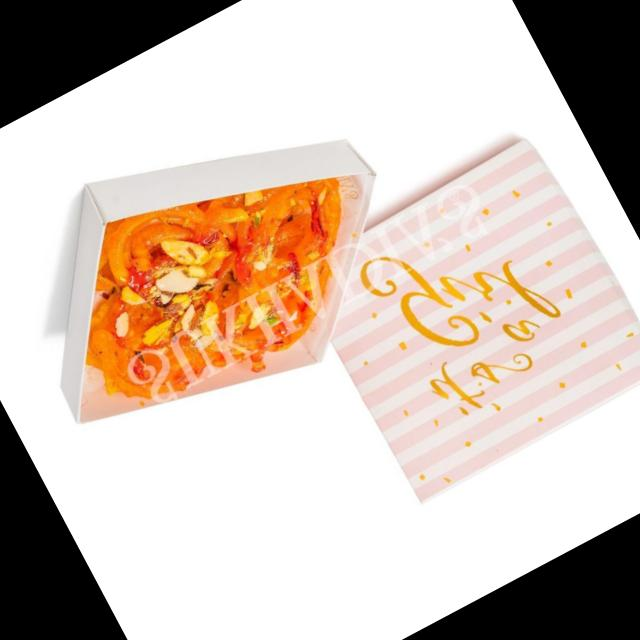jalebi: (49, 148, 410, 454)
